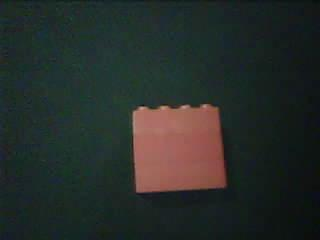lego: (129, 101, 227, 194)
